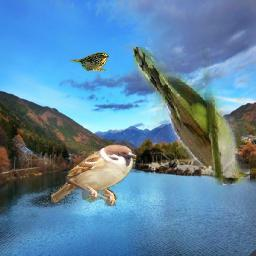Cuckoo: (134, 47, 251, 185)
Sparrow: (51, 144, 137, 206), (71, 53, 110, 72)
